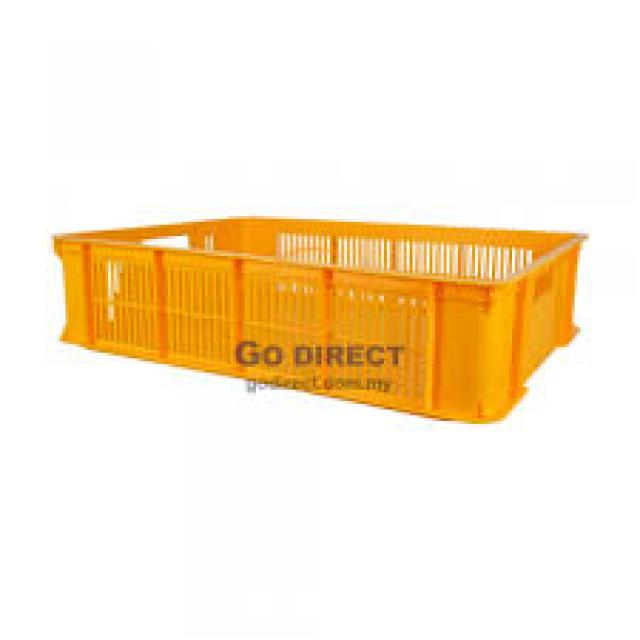basket: (47, 212, 589, 426)
